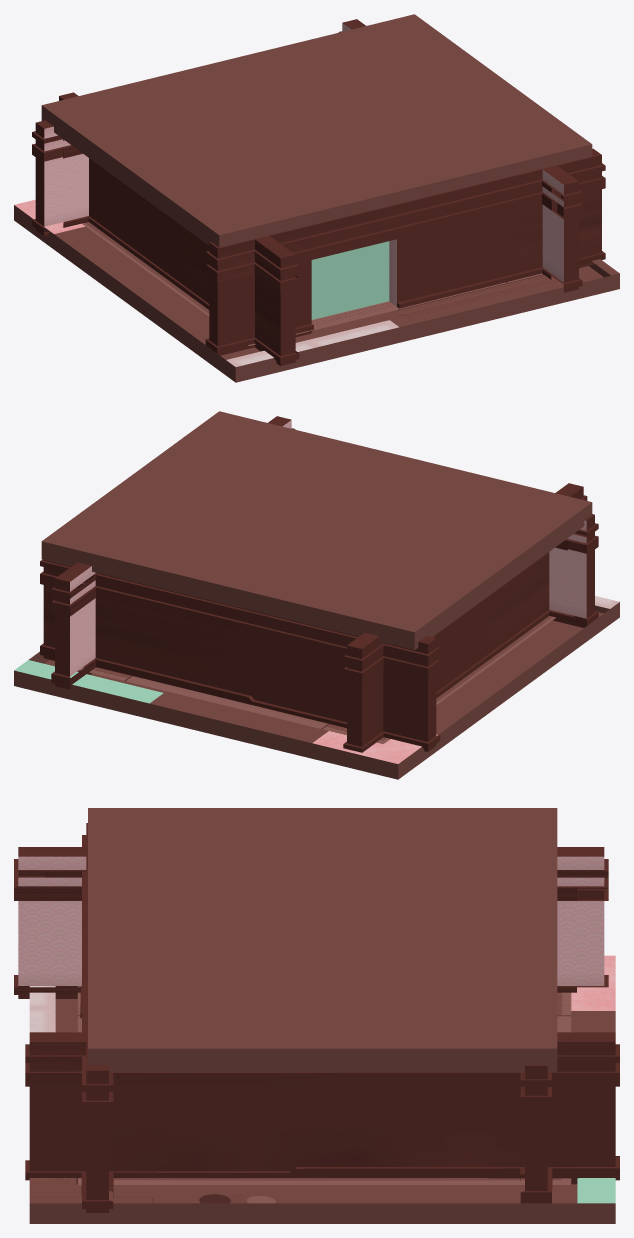
File: Inside.fbx
3 views of the same model, one above another, from view 1: azimuth 30°, elevation 25°; view 2: azimuth 150°, elevation 25°; view 3: azimuth 270°, elevation 25° (orthographic). The views are drawn at different scales.
Parts seen in each view (by area): view 1: House-Inside; view 2: House-Inside; view 3: House-Inside.
Boxes of the visible parts, bbox=[...] form: House-Inside: bbox=[14, 14, 619, 382]; House-Inside: bbox=[14, 411, 619, 779]; House-Inside: bbox=[14, 808, 619, 1223].
Size of the model in its own units: 1242 by 390 by 1247.
